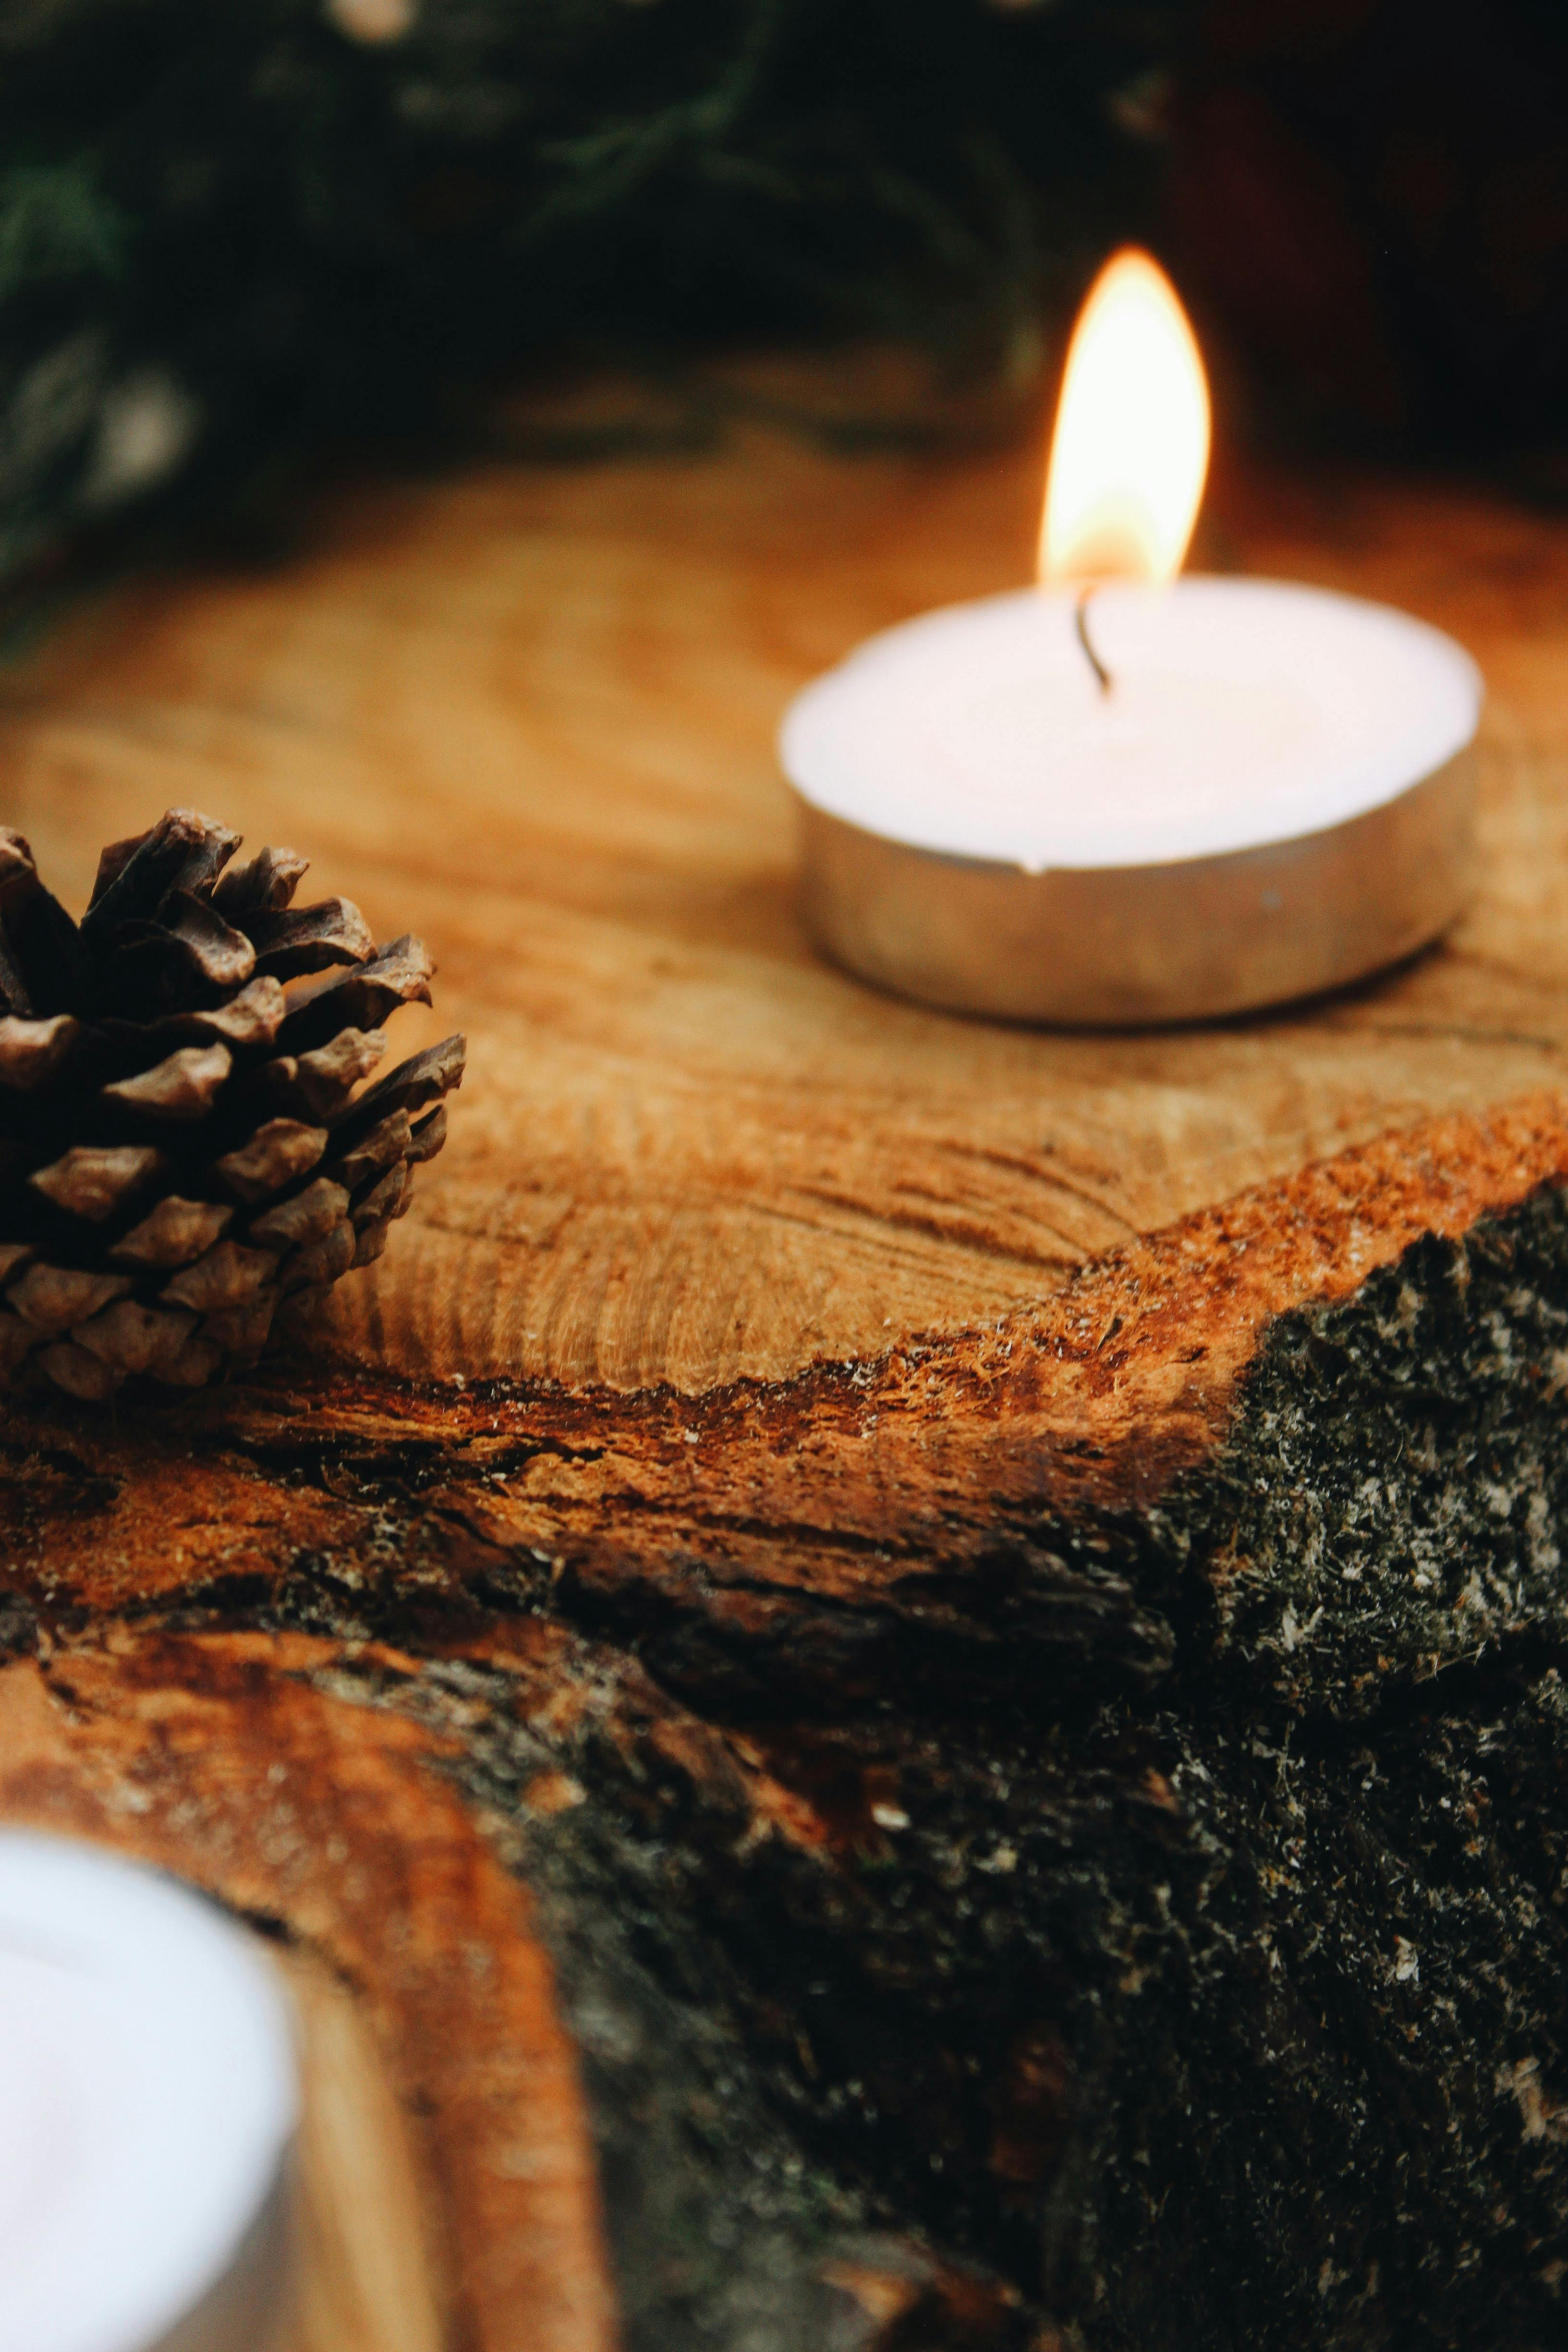Fire: (1015, 241, 1223, 663)
